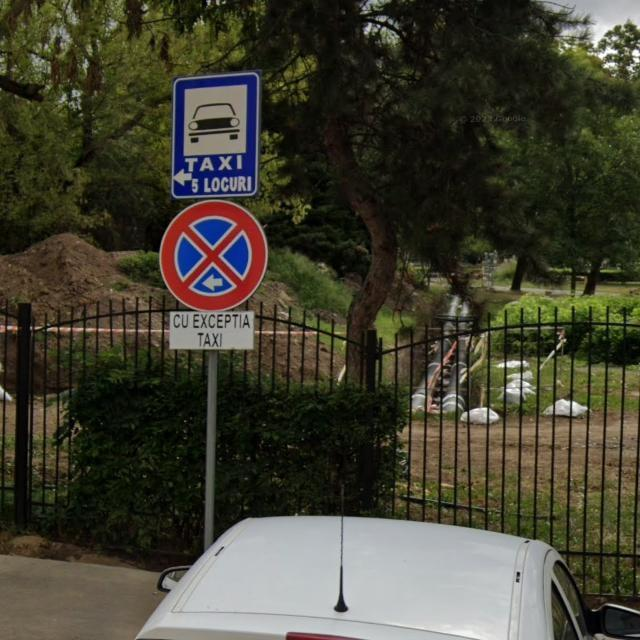forb_waiting: (159, 199, 268, 311)
